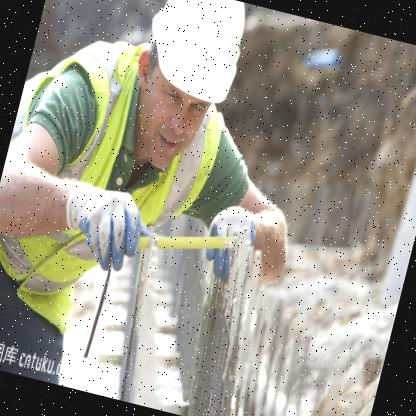capacete: (111, 0, 256, 185)
colete_refletivo: (0, 17, 240, 349)
